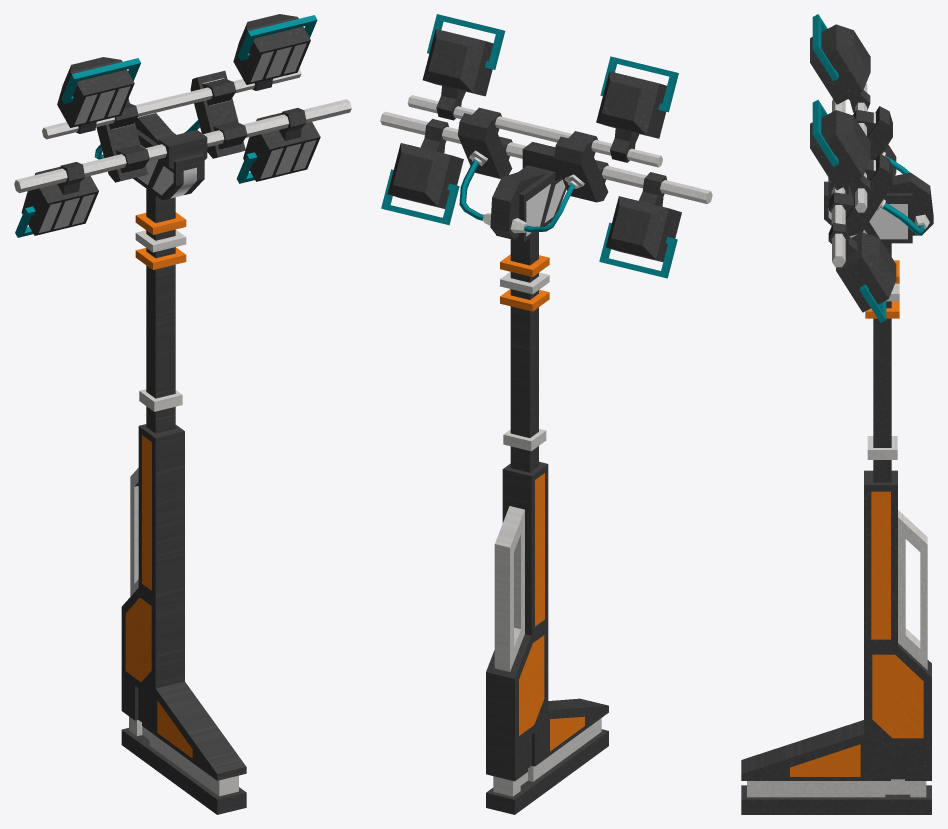
Rendered from Lamp_1_LOD1.fbx.
3 renders of one model, left to right at view 1: azimuth 30°, elevation 25°; view 2: azimuth 150°, elevation 25°; view 3: azimuth 270°, elevation 25°, orthographic.
Parts seen in each view (by area): view 1: Lamp_1_LOD1; view 2: Lamp_1_LOD1; view 3: Lamp_1_LOD1.
Boxes of the visible parts, bbox=[...] form: Lamp_1_LOD1: bbox=[14, 14, 351, 814]; Lamp_1_LOD1: bbox=[380, 14, 712, 814]; Lamp_1_LOD1: bbox=[741, 14, 933, 814].
Size of the model in its own units: 167 by 355 by 84.15.
